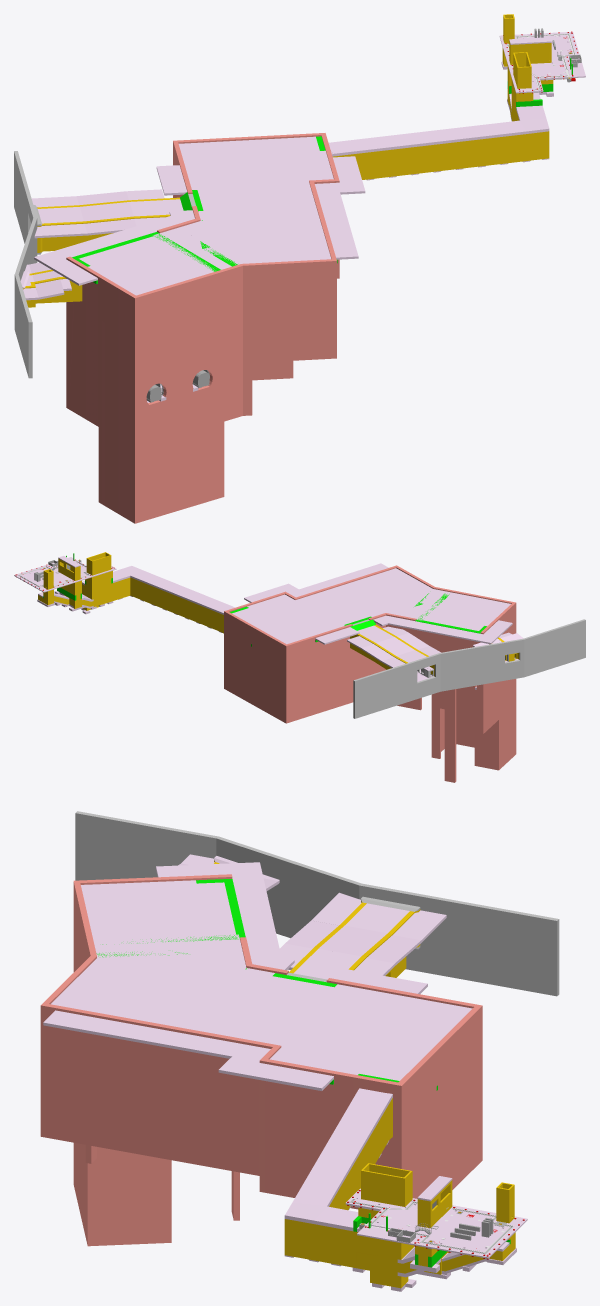
3 renders of one model, top to bottom at view 1: azimuth 30°, elevation 25°; view 2: azimuth 150°, elevation 25°; view 3: azimuth 270°, elevation 25°, orthographic. The views are drawn at different scales.
Parts seen in each view (by area): view 1: Concrete,_Dwall (×23), Concrete (×16), Slab,_Precast (×2); view 2: Concrete (×16), Concrete,_Dwall (×23), Slab,_Precast (×2); view 3: Concrete (×23), Concrete,_Dwall (×28), Slab,_Precast (×6).
Boxes of the visible parts, x1,y1,x2,y2 form: Concrete,_Dwall (×23): (69,258,336,523); Concrete (×16): (14,43,550,378); Slab,_Precast (×2): (34,156,365,285); Concrete (×16): (21,568,585,718); Concrete,_Dwall (×23): (224,610,512,782); Slab,_Precast (×2): (244,563,512,644); Concrete (×23): (51,811,559,1275); Concrete,_Dwall (×28): (40,999,479,1246); Slab,_Precast (×6): (43,862,446,1090).
Size of the model in its own units: 683 by 248 by 327.
